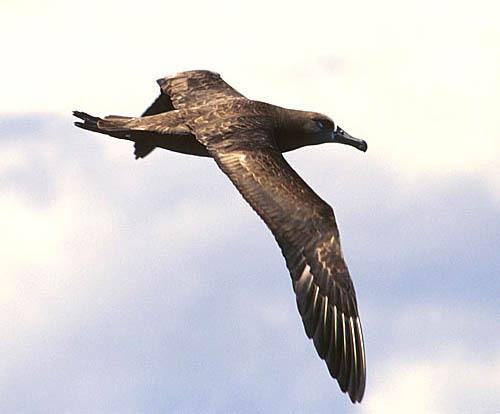001.Black_footed_Albatross: (68, 68, 372, 404)
